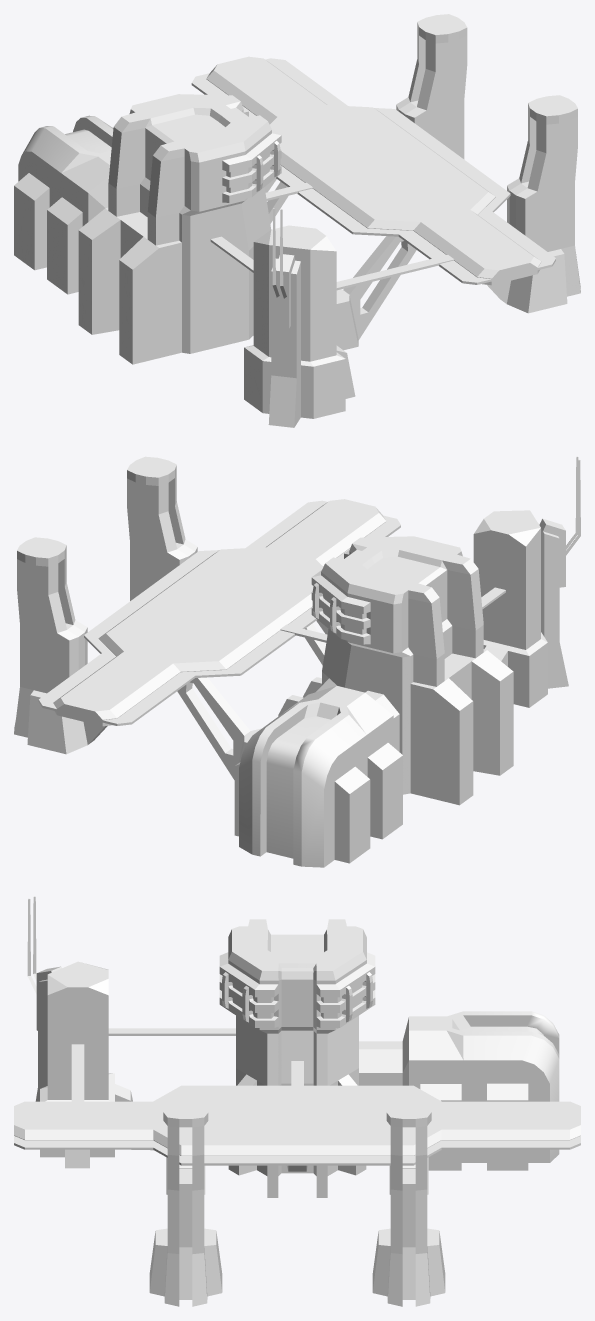
Rendered from rumpf.obj.
3 renders of one model, top to bottom at view 1: azimuth 30°, elevation 25°; view 2: azimuth 150°, elevation 25°; view 3: azimuth 270°, elevation 25°, orthographic.
Visible parts, largest first — view 1: cube2_copy27_cube2_copy27_auv; view 2: cube2_copy27_cube2_copy27_auv; view 3: cube2_copy27_cube2_copy27_auv.
Part boxes in pixels (x1,y1,x2,y2): cube2_copy27_cube2_copy27_auv: (14, 14, 580, 427); cube2_copy27_cube2_copy27_auv: (14, 456, 580, 867); cube2_copy27_cube2_copy27_auv: (14, 896, 580, 1306).
Bounding box in the file's own units: 10.85 × 5.55 × 12.71.
Materials: 2 (1 with a texture image).
